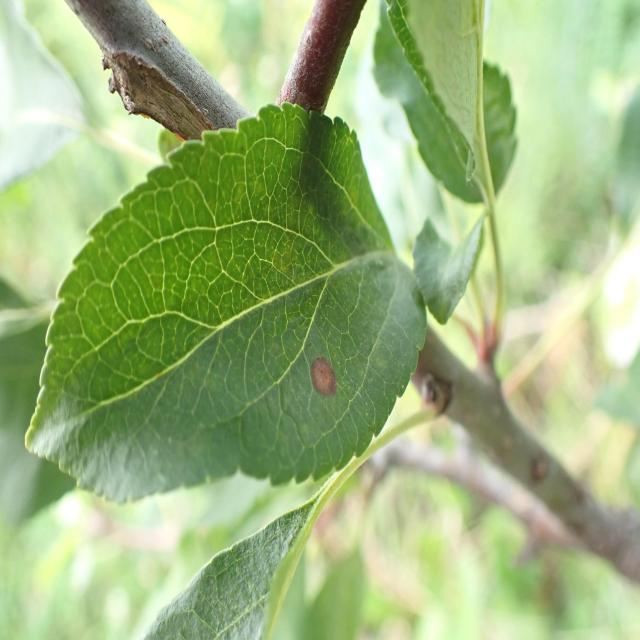Black Rot: (300, 354, 340, 408)
